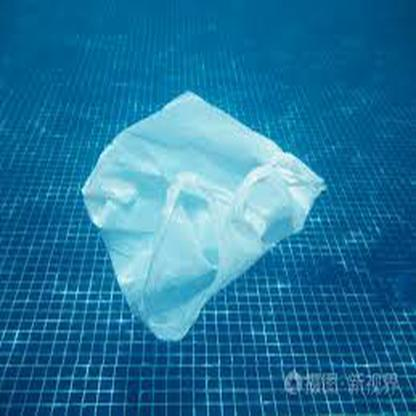plastic bag: (81, 87, 325, 341)
